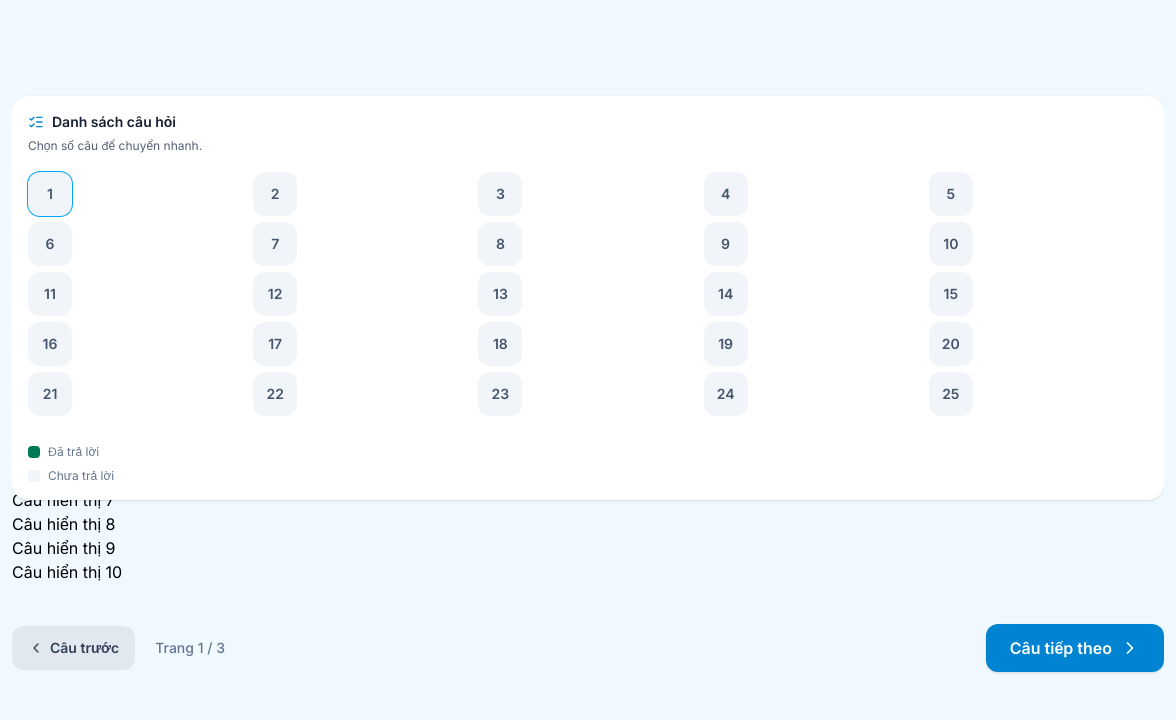
it: quiz page navigation › moves to and focuses the first question of the next page
(page scrolled)
Click the button "Câu tiếp theo". click: click(1075, 648)
box: [986, 624, 1164, 672]
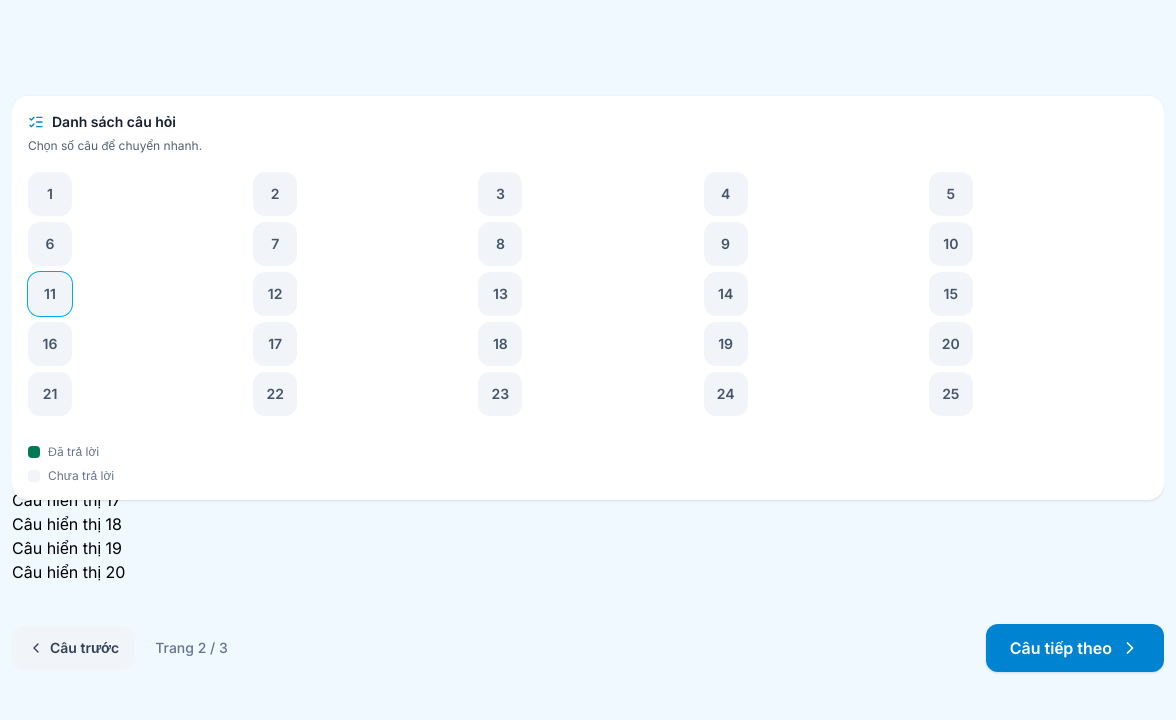
Expected: the text "Câu hiển thị 11" is shown, [12, 346, 119, 366]
Now the message reads "Trang 2 / 3", box [155, 639, 228, 656]
